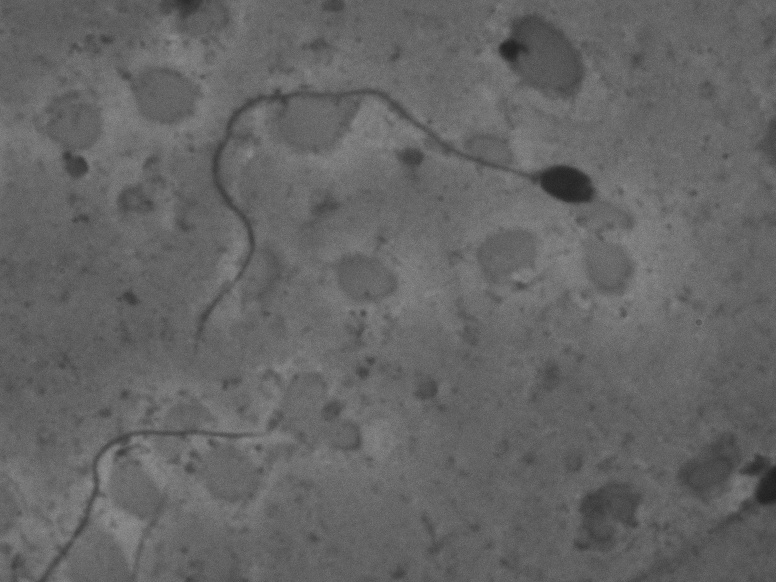Abnormal: (157, 76, 622, 362)
